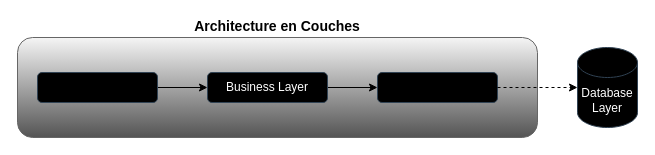
Some shapes in this 655 by 155 pixel diagram are drawn without their labels. Here are the shapes that lost their labels. From the top down, the centre of each, then its label:
At (97,87): "Presentation Layer".
At (437,87): "Persistence Layer".
